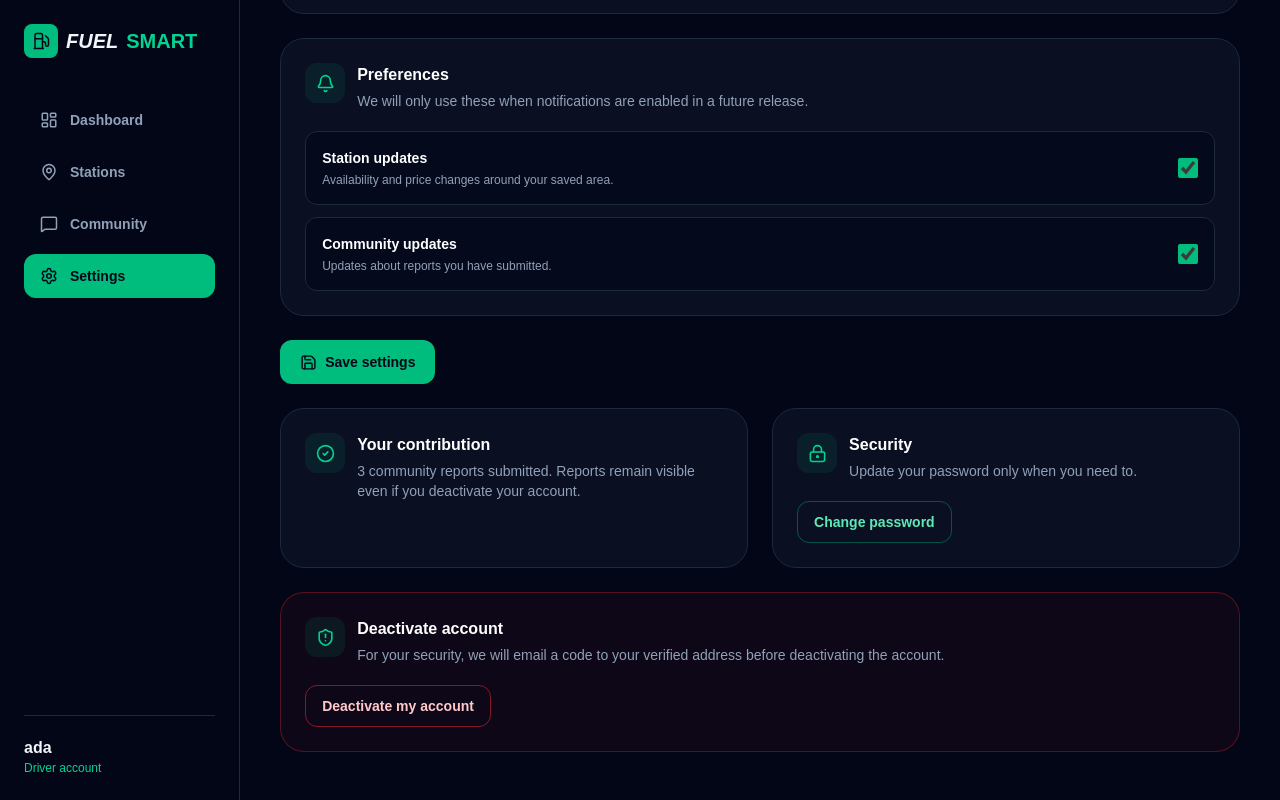
driver settings profile › shows saved account details and keeps password inputs hidden until requested
(page scrolled)
Click the button "Change password" at x=874, y=522, box [797, 501, 952, 543]
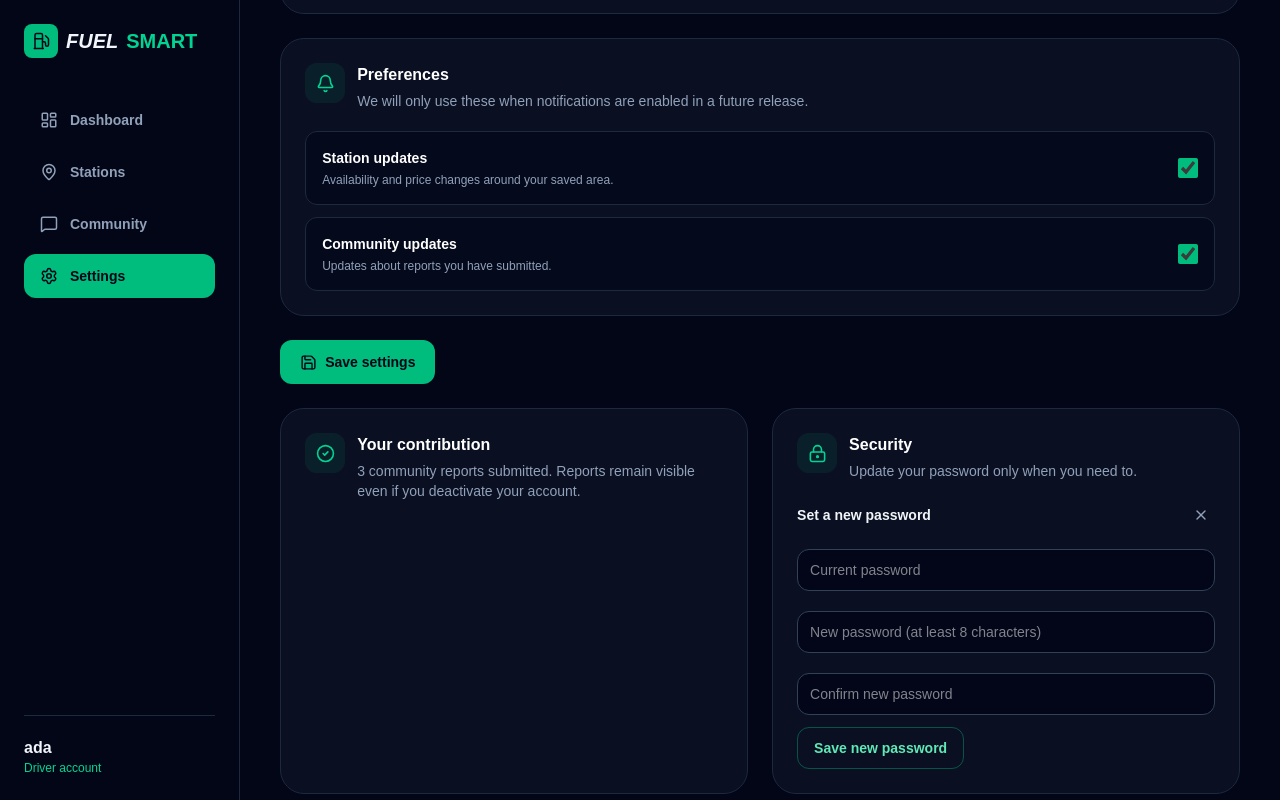
Result: the password field labelled "Current password" is shown at [797, 549, 1215, 591]
